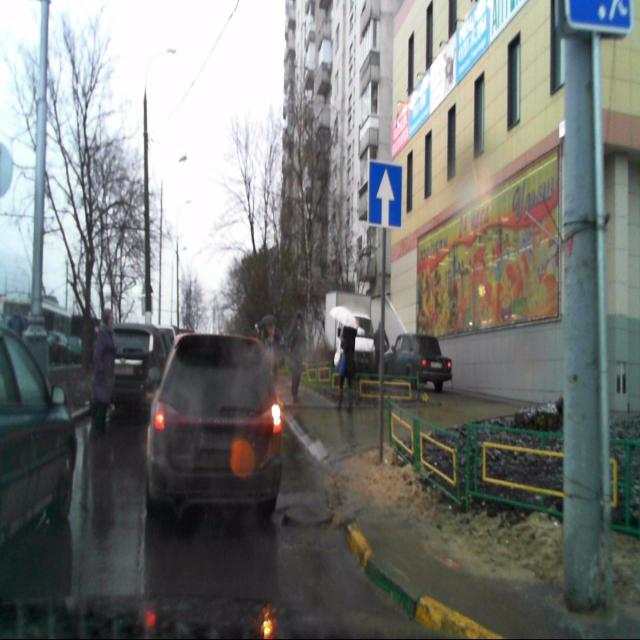road sign: (368, 159, 402, 228)
